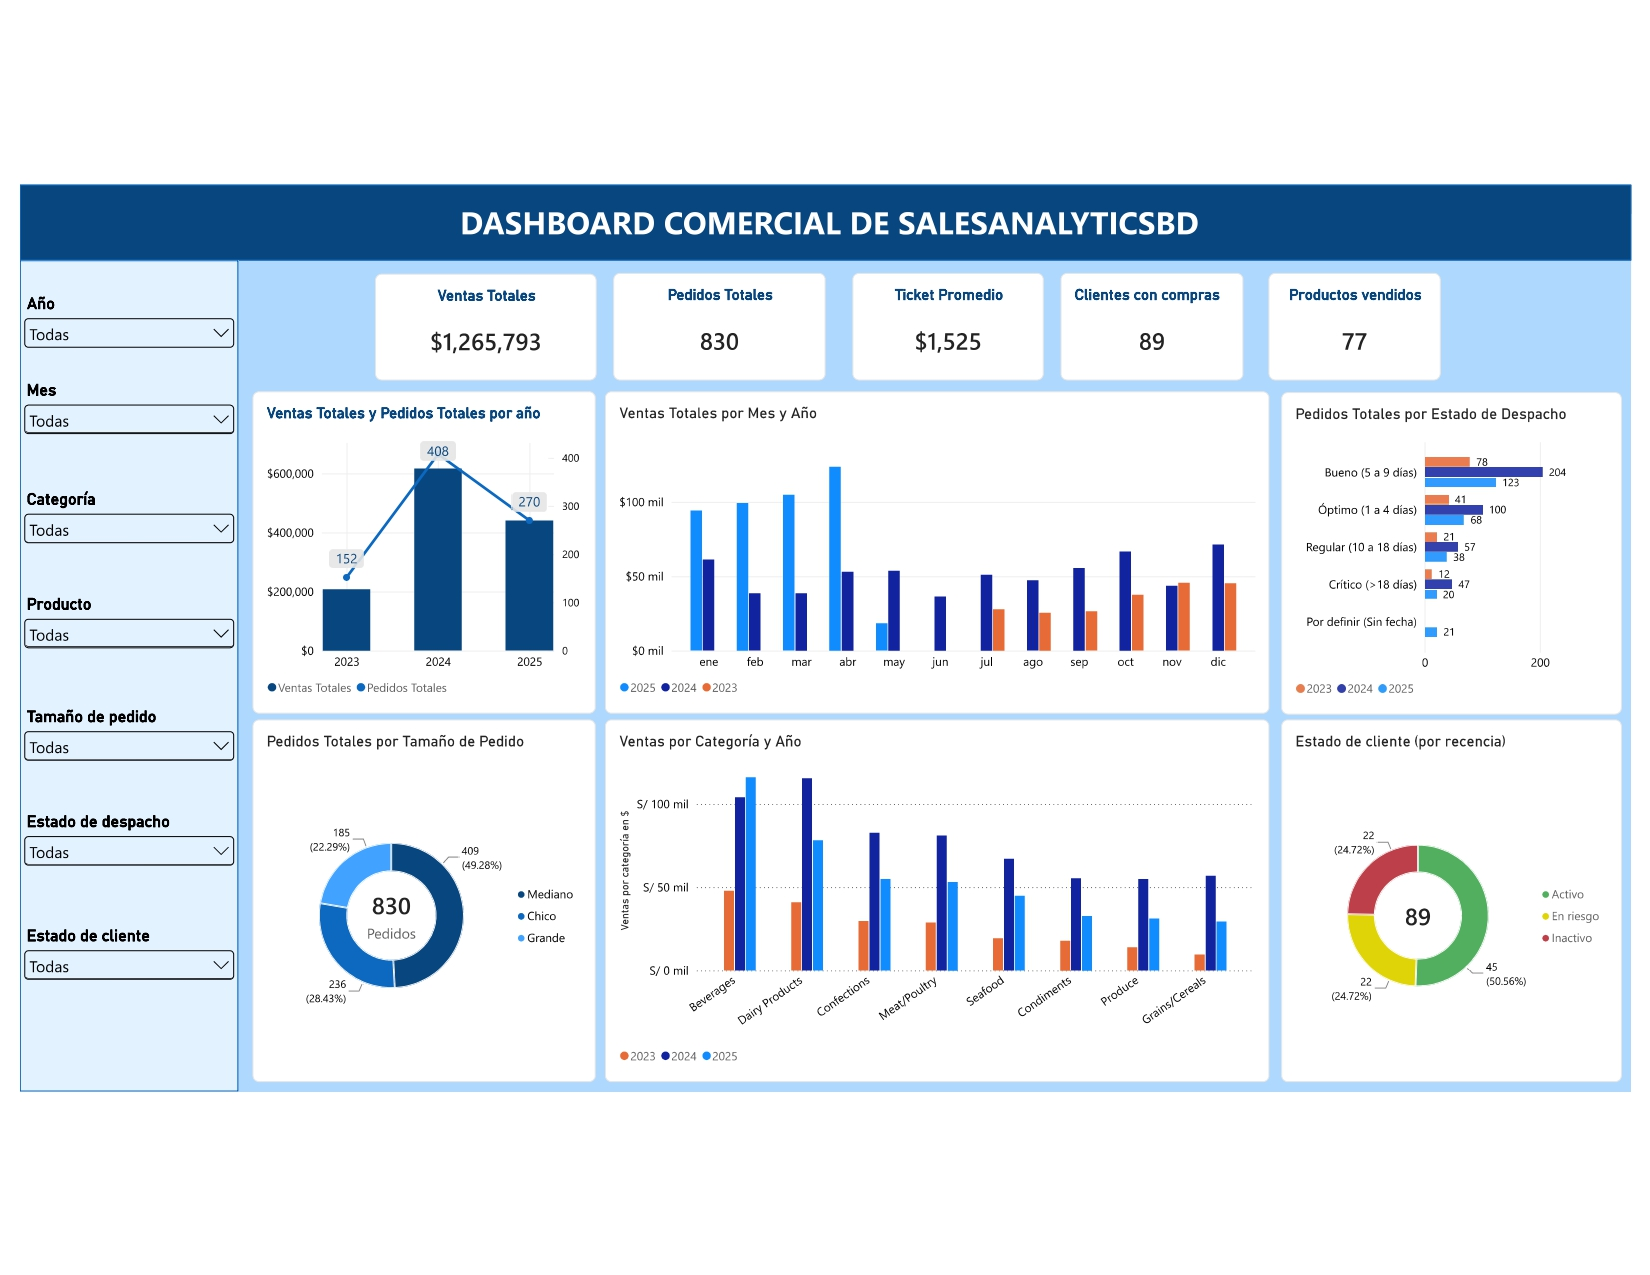

Layout of this report page (visuals, bound fields, positions):
{"tool":"powerbi","page":{"name":"Página 1","canvas":[1920,1080],"ordinal":0},"visuals":[{"type":"shape","box":[0,0,1920,90],"z":0},{"type":"shape","box":[0,90,260,990],"z":1000},{"type":"card","title":"Ticket Promedio","fields":{"Values":["AnalisisVentas.Ticket Promedio"]},"box":[991.7,105,228.3,128.3],"z":2000},{"type":"card","title":"Pedidos Totales","fields":{"Values":["AnalisisVentas.Pedidos Totales"]},"box":[706.7,105,253.3,128.3],"z":3000},{"type":"card","title":"Ventas Totales","fields":{"Values":["AnalisisVentas.Ventas Totales"]},"box":[422.9,105.7,264.3,127.1],"z":4000},{"type":"card","title":"Clientes con compras","fields":{"Values":["AnalisisVentas.Clientes con Compras"]},"box":[1240,105,218.3,128.3],"z":5000},{"type":"card","title":"Productos vendidos","fields":{"Values":["AnalisisVentas.Productos Vendidos"]},"box":[1488.3,105,205,128.3],"z":6000},{"type":"lineClusteredColumnComboChart","title":"Ventas Totales y Pedidos Totales por año","fields":{"Category":["Calendario.Anio"],"Y":["AnalisisVentas.Ventas Totales"],"Y2":["AnalisisVentas.Pedidos Totales"]},"box":[277.1,245.7,408.6,384.3],"z":7000},{"type":"clusteredColumnChart","title":"Ventas Totales por Mes y Año","fields":{"Category":["Calendario.MesCorto"],"Y":["AnalisisVentas.Ventas Totales"],"Series":["Calendario.Anio"]},"box":[697.1,245.7,791.4,384.3],"z":8000},{"type":"clusteredColumnChart","title":"Ventas por Categoría y Año","fields":{"Category":["Categories.CategoryName"],"Y":["AnalisisVentas.Ventas por Categoría"],"Series":["Calendario.Anio"]},"box":[697.1,637.1,791.4,431.4],"z":9000},{"type":"donutChart","title":"Pedidos Totales por Tamaño de Pedido","fields":{"Category":["AnalisisVentas.TamanoPedido"],"Y":["AnalisisVentas.Pedidos Totales"]},"box":[277.1,637.1,408.6,431.4],"z":10000},{"type":"clusteredBarChart","title":"Pedidos Totales por Estado de Despacho","fields":{"Category":["AnalisisVentas.EstadoDespacho"],"Y":["AnalisisVentas.Pedidos Totales"],"Series":["Calendario.Anio"]},"box":[1502.9,247.1,405.7,384.3],"z":11000},{"type":"donutChart","title":"Estado de cliente (por recencia)","fields":{"Y":["AnalisisVentas.Clientes con Compras"],"Category":["AnalisisVentas.EstadoCliente"]},"box":[1502.9,637.1,405.7,431.4],"z":12000},{"type":"slicer","fields":{"Values":["Calendario.Anio"]},"box":[0,130,260,103.3],"z":13000},{"type":"slicer","fields":{"Values":["Calendario.Mes"]},"box":[0,233.3,260,103.3],"z":14000},{"type":"slicer","fields":{"Values":["Categories.CategoryName"]},"box":[0,363.3,260,103.3],"z":15000},{"type":"slicer","fields":{"Values":["AnalisisVentas.TamanoPedido"]},"box":[0,621.7,260,103.3],"z":16000},{"type":"slicer","fields":{"Values":["AnalisisVentas.EstadoDespacho"]},"box":[0,746.7,260,103.3],"z":17000},{"type":"slicer","fields":{"Values":["AnalisisVentas.EstadoCliente"]},"box":[0,883.3,260,103.3],"z":18000},{"type":"slicer","fields":{"Values":["Products.ProductName"]},"box":[0,488.3,260,103.3],"z":19000},{"type":"textbox","box":[41.7,0,1845,90],"z":20000}]}

Visuals, with their boxes in screenshot pixels (x1, y1, x2, y2):
shape: bbox(13, 180, 1640, 257)
shape: bbox(13, 257, 233, 1096)
"Ticket Promedio" card: bbox(853, 269, 1047, 378)
"Pedidos Totales" card: bbox(612, 269, 826, 378)
"Ventas Totales" card: bbox(371, 270, 595, 378)
"Clientes con compras" card: bbox(1064, 269, 1249, 378)
"Productos vendidos" card: bbox(1274, 269, 1448, 378)
"Ventas Totales y Pedidos Totales por año" lineClusteredColumnComboChart: bbox(248, 389, 594, 714)
"Ventas Totales por Mes y Año" clusteredColumnChart: bbox(604, 389, 1274, 714)
"Ventas por Categoría y Año" clusteredColumnChart: bbox(604, 720, 1274, 1086)
"Pedidos Totales por Tamaño de Pedido" donutChart: bbox(248, 720, 594, 1086)
"Pedidos Totales por Estado de Despacho" clusteredBarChart: bbox(1287, 390, 1630, 716)
"Estado de cliente (por recencia)" donutChart: bbox(1287, 720, 1630, 1086)
slicer - Calendario.Anio: bbox(13, 291, 233, 378)
slicer - Calendario.Mes: bbox(13, 378, 233, 466)
slicer - Categories.CategoryName: bbox(13, 488, 233, 576)
slicer - AnalisisVentas.TamanoPedido: bbox(13, 707, 233, 795)
slicer - AnalisisVentas.EstadoDespacho: bbox(13, 813, 233, 901)
slicer - AnalisisVentas.EstadoCliente: bbox(13, 929, 233, 1017)
slicer - Products.ProductName: bbox(13, 594, 233, 682)
textbox: bbox(48, 180, 1612, 257)
